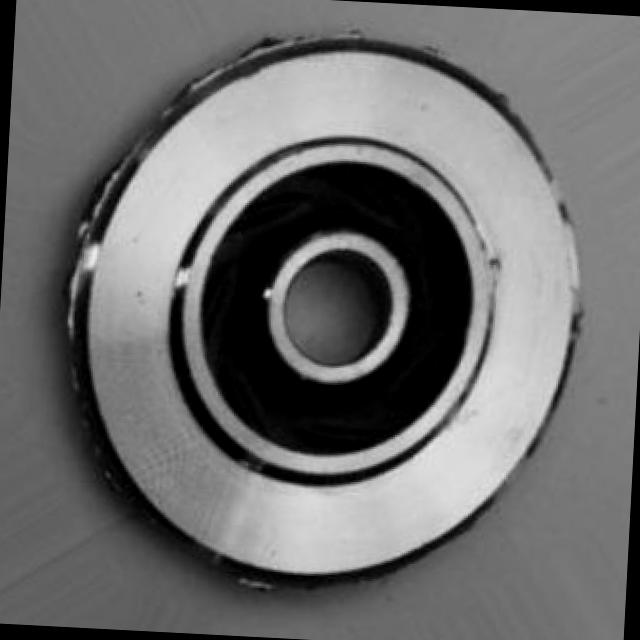Defect: (64, 186, 111, 256)
